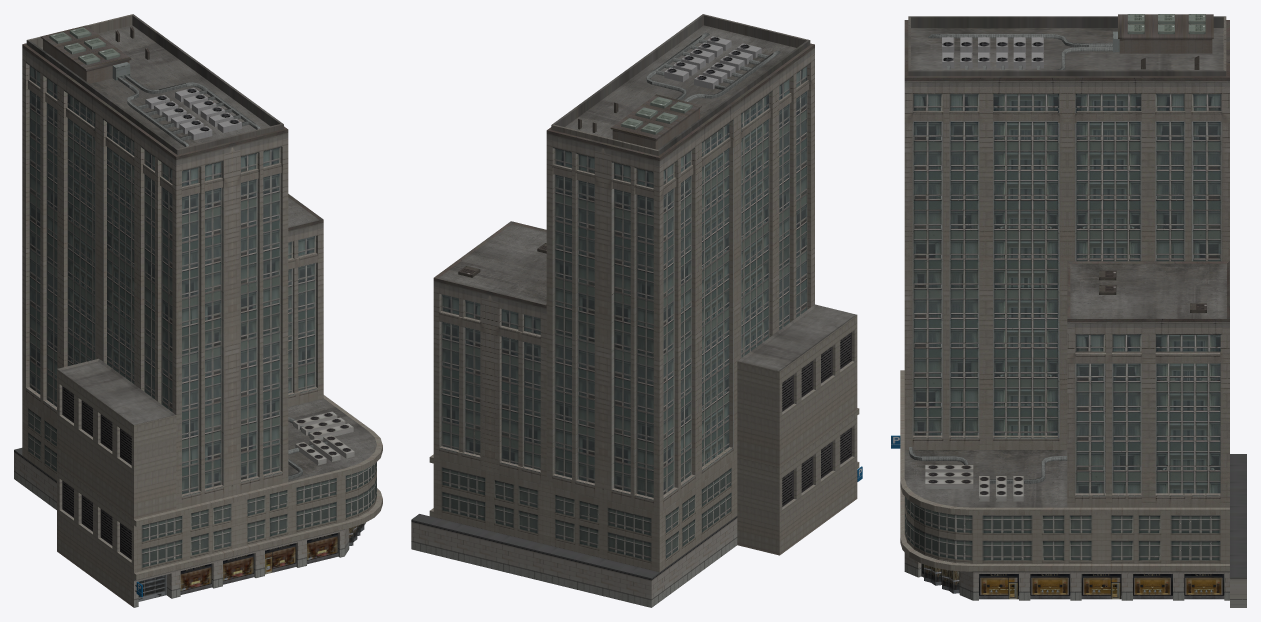
File: office1.glb
3 views of the same model, side by side, from view 1: azimuth 30°, elevation 25°; view 2: azimuth 150°, elevation 25°; view 3: azimuth 270°, elevation 25° (orthographic). The views are drawn at different scales.
Parts seen in each view (by area): view 1: AIT01W2W7; view 2: AIT01W2W7; view 3: AIT01W2W7.
Part boxes in pixels (box(x1,y1,x2,y2)): AIT01W2W7: box(14, 14, 382, 607); AIT01W2W7: box(411, 14, 862, 607); AIT01W2W7: box(891, 14, 1246, 607).
Size of the model in its own units: 0.8 by 1.24 by 0.8323.
Materials: 1 (1 with a texture image).
